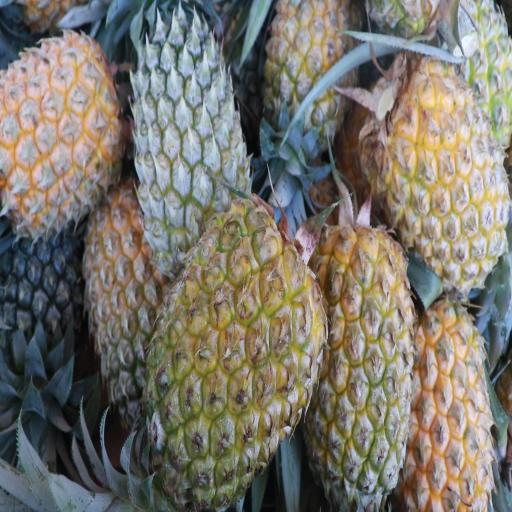------------------------------: (80, 195, 170, 408), (265, 0, 356, 138)
Pineapple - v8 v1: (154, 211, 318, 506), (304, 217, 406, 495), (378, 72, 509, 275), (0, 31, 121, 207), (409, 294, 492, 510)
